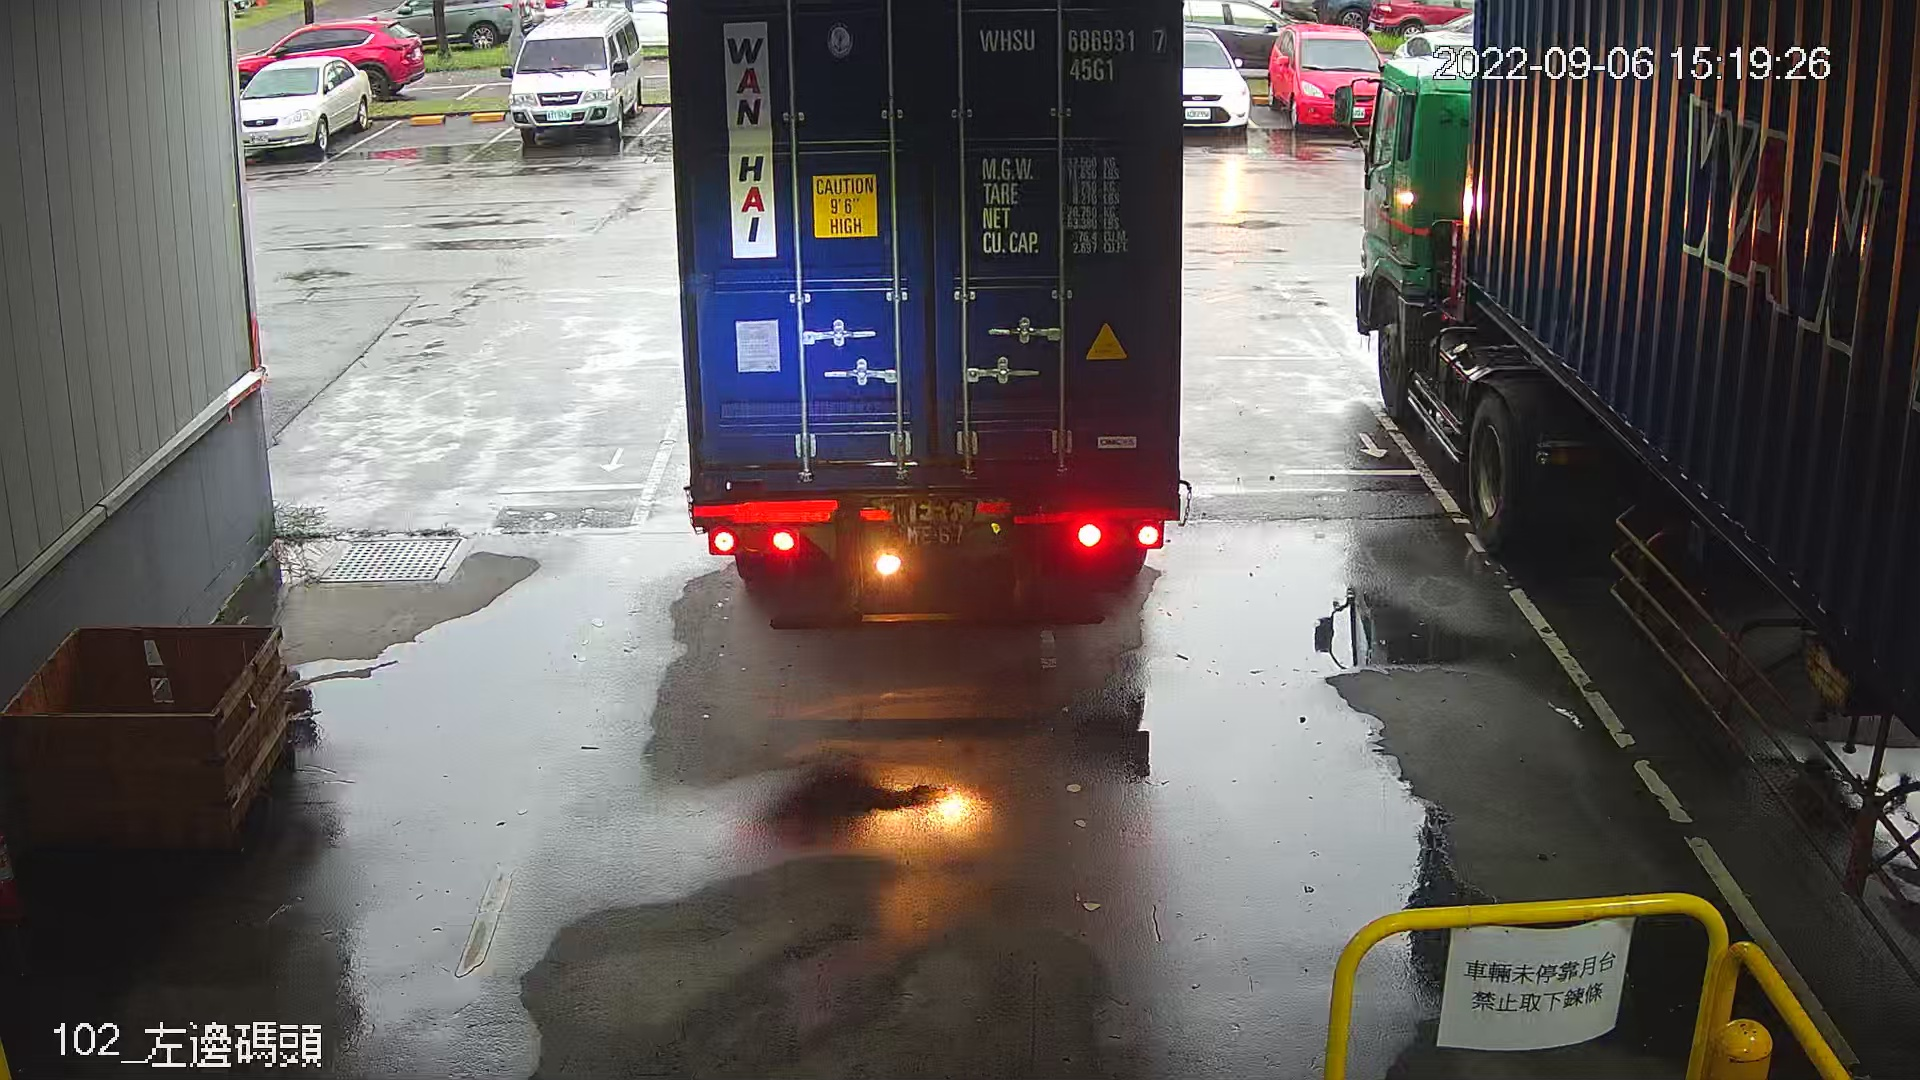container: (971, 17, 1174, 91)
